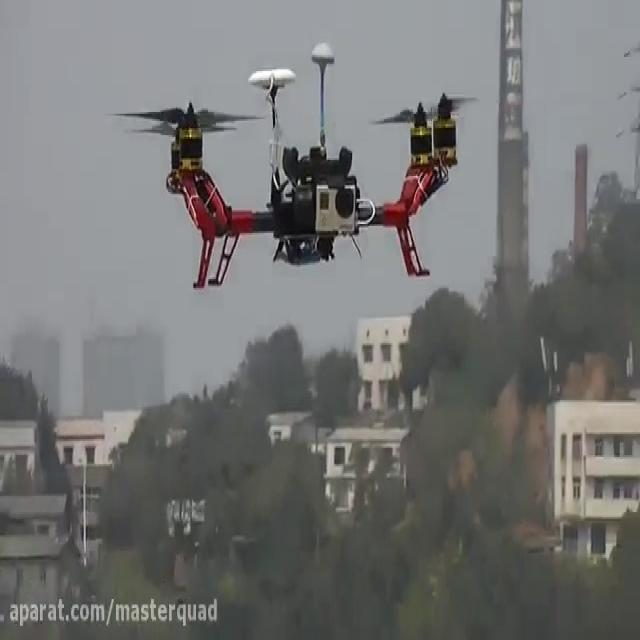drone: (107, 43, 481, 288)
